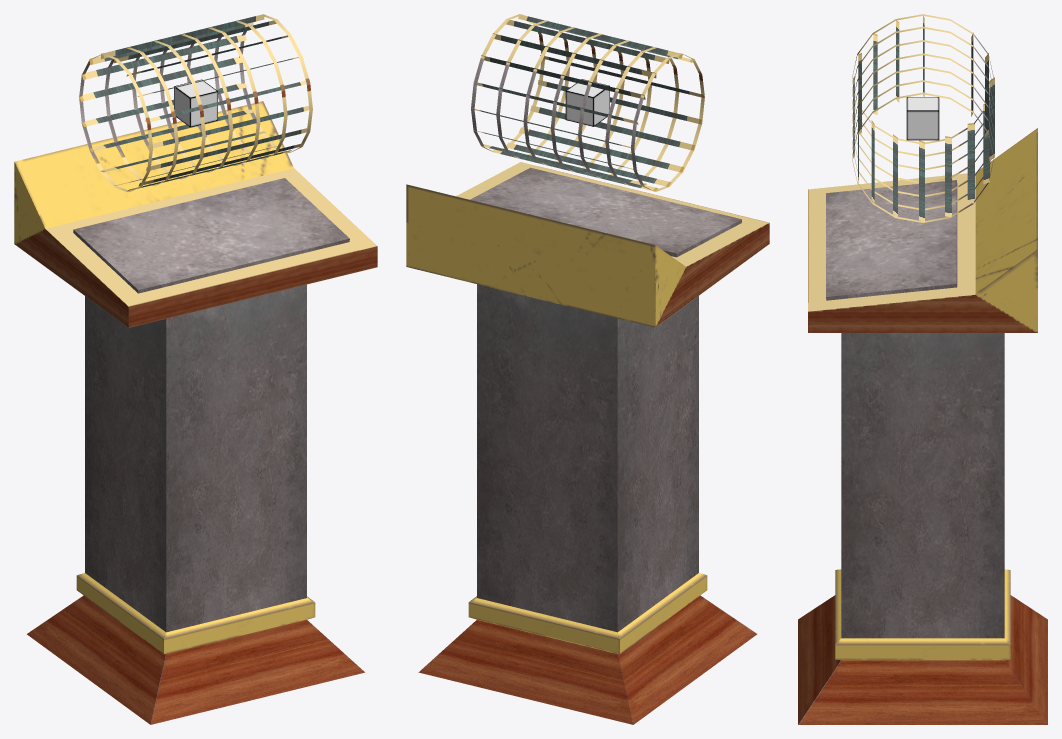
File: Sign_book.001.glb
3 renders of one model, left to right at view 1: azimuth 30°, elevation 25°; view 2: azimuth 150°, elevation 25°; view 3: azimuth 270°, elevation 25°, orthographic.
Visible parts, largest first — view 1: Sign_book.001, Cylinder_Horizontal, Cylinder_Vertical.001, Rotative_Cube.001; view 2: Sign_book.001, Cylinder_Horizontal, Cylinder_Vertical.001, Rotative_Cube.001; view 3: Sign_book.001, Cylinder_Horizontal, Cylinder_Vertical.001, Rotative_Cube.001.
Part boxes in pixels (x1,y1,x2,y2): Sign_book.001: (14,101,377,724); Cylinder_Horizontal: (79,14,309,191); Cylinder_Vertical.001: (79,14,312,192); Rotative_Cube.001: (174,79,217,127); Sign_book.001: (406,162,769,724); Cylinder_Horizontal: (471,15,704,191); Cylinder_Vertical.001: (471,14,704,191); Rotative_Cube.001: (565,79,609,126); Sign_book.001: (798,128,1047,724); Cylinder_Horizontal: (853,16,994,222); Cylinder_Vertical.001: (852,14,993,222); Rotative_Cube.001: (906,97,939,140).
Bounding box in the file's own units: 0.8838 × 2.08 × 0.7633.
Materials: 3 (3 with a texture image).
